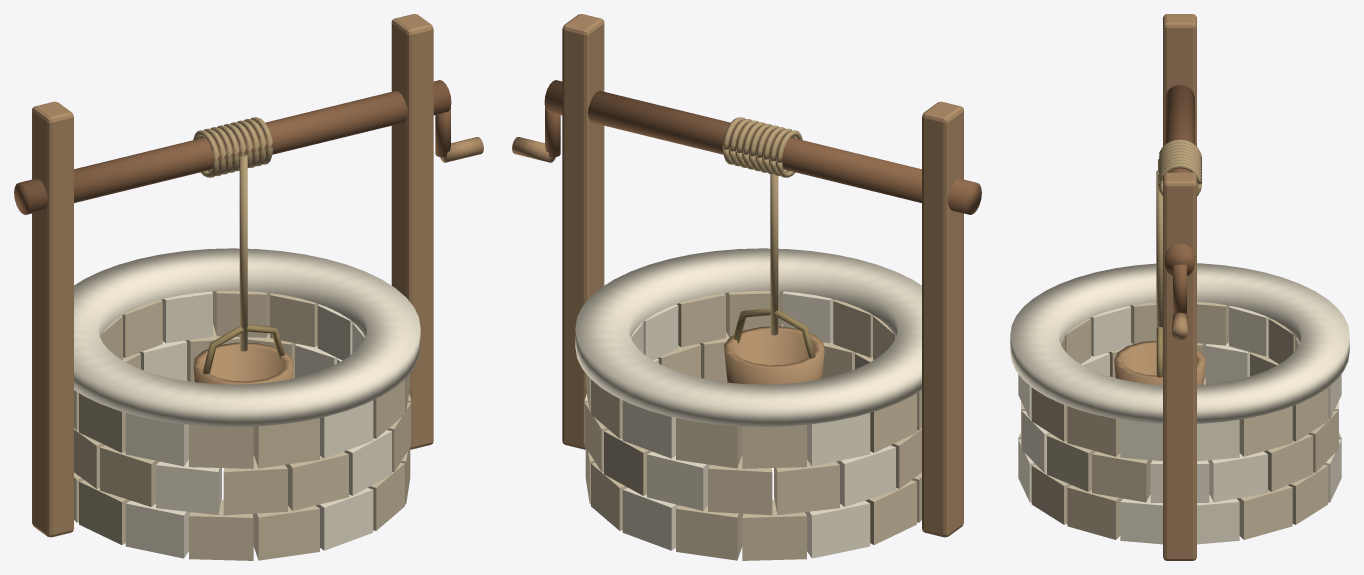
Rendered from courtyard-well.glb.
3 views of the same model, side by side, from view 1: azimuth 30°, elevation 25°; view 2: azimuth 150°, elevation 25°; view 3: azimuth 270°, elevation 25° (orthographic). The views are drawn at different scales.
Parts seen in each view (by area): view 1: courtyard-well__marble, courtyard-well__limestone, courtyard-well__woodlight, courtyard-well__wood, courtyard-well__rope, courtyard-well__bronze; view 2: courtyard-well__marble, courtyard-well__limestone, courtyard-well__woodlight, courtyard-well__wood, courtyard-well__rope, courtyard-well__bronze; view 3: courtyard-well__marble, courtyard-well__limestone, courtyard-well__woodlight, courtyard-well__wood, courtyard-well__rope.
Boxes of the visible parts, x1,y1,x2,y2 form: courtyard-well__marble: (74,248,420,558); courtyard-well__limestone: (74,290,411,560); courtyard-well__woodlight: (32,14,483,537); courtyard-well__wood: (14,80,451,214); courtyard-well__rope: (193,117,272,351); courtyard-well__bronze: (202,324,284,374); courtyard-well__marble: (575,248,921,558); courtyard-well__limestone: (585,290,921,560); courtyard-well__woodlight: (512,14,963,537); courtyard-well__wood: (544,80,981,214); courtyard-well__rope: (722,117,802,335); courtyard-well__bronze: (733,308,815,358); courtyard-well__marble: (1010,263,1349,544); courtyard-well__limestone: (1018,301,1341,539); courtyard-well__woodlight: (1114,14,1205,560); courtyard-well__wood: (1165,85,1194,313); courtyard-well__rope: (1156,139,1201,346).
Size of the model in its own units: 2.39 by 2.1 by 1.7.
